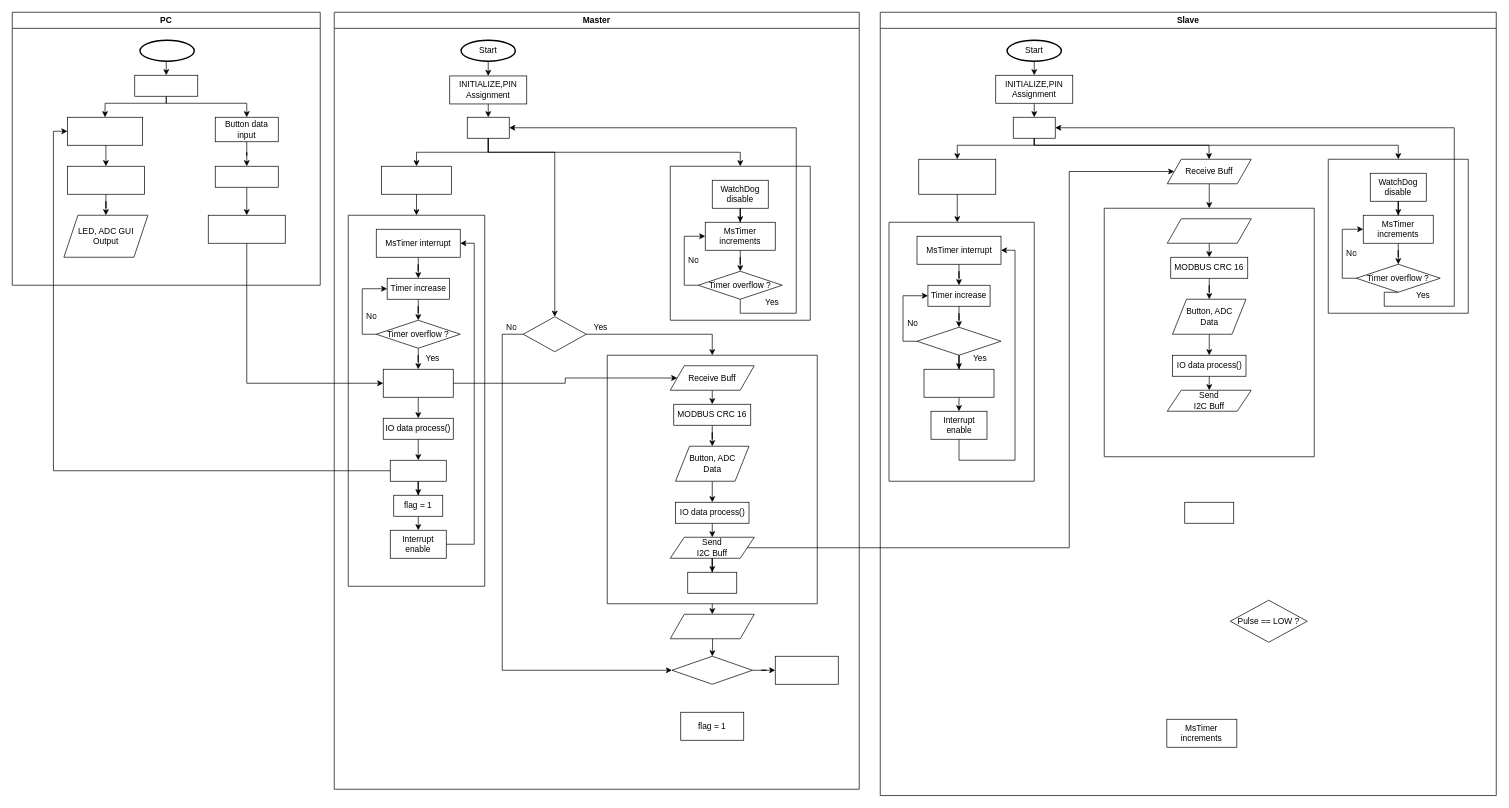
The diagram is 1509 pixels wide and 808 high, and some of its shapes have lost their labels. The shapes that lost their labels are listed below. From the top down, each one's centre as x and y in pixels, then its label:
At (167,50): "Proccessing".
At (166,85): "GUI set".
At (105,131): "LED, ADC Data receive".
At (488,127): "Setup".
At (1034,127): "Setup()".
At (105,180): "MODBUS CRC 16 Check".
At (246,176): "Data read".
At (416,180): "Initiate MsTimer".
At (957,176): "Initiate MsTimer Initiate WatchDog".
At (246,229): "Send Data".
At (554,334): "flag == 1 ?".
At (958,341): "Timer overflow".
At (418,383): "Read Pulse".
At (958,383): "Send WatchDog Pulse".
At (418,470): "Send Pulse".
At (712,582): "flag = 3".
At (711,670): "flag == 0?".
At (806,670): "flag =".
